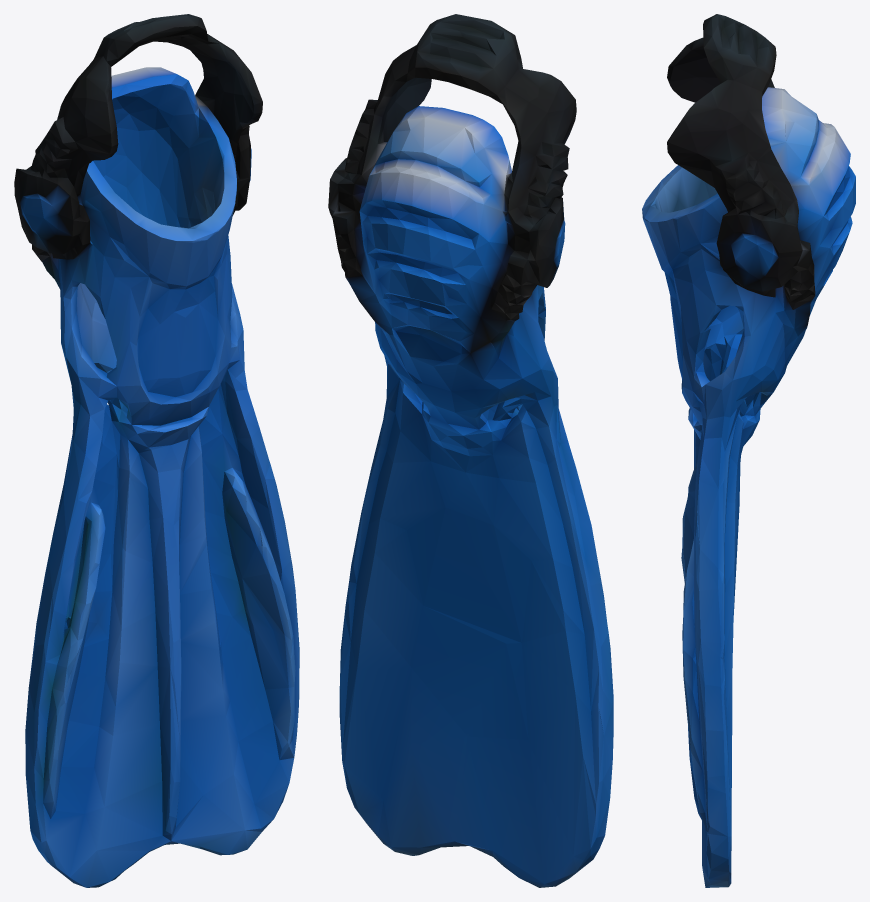
File: scuba_fin.glb
The picture shows the model from 3 angles, left to right: view 1: azimuth 30°, elevation 25°; view 2: azimuth 150°, elevation 25°; view 3: azimuth 270°, elevation 25°; orthographic projection. The views are drawn at different scales.
Bounding box in the file's own units: 0.6206 × 1.9 × 0.4449.
